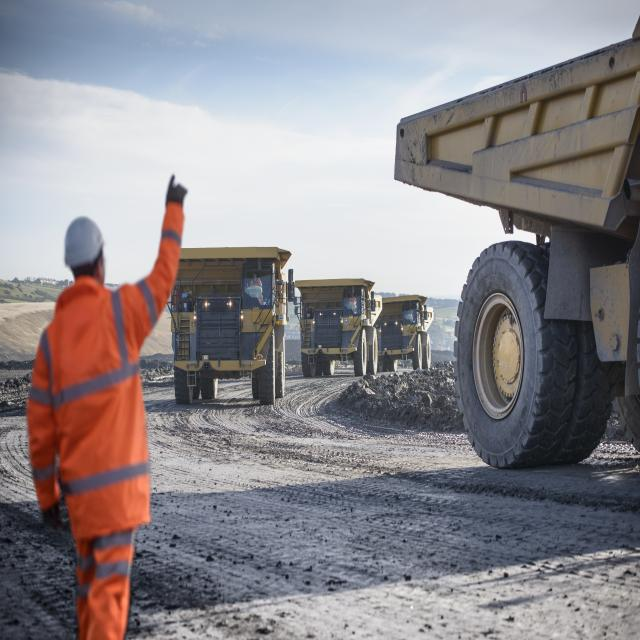dump_truck: (383, 25, 634, 476), (165, 232, 298, 420), (289, 268, 379, 388), (378, 268, 428, 379)
